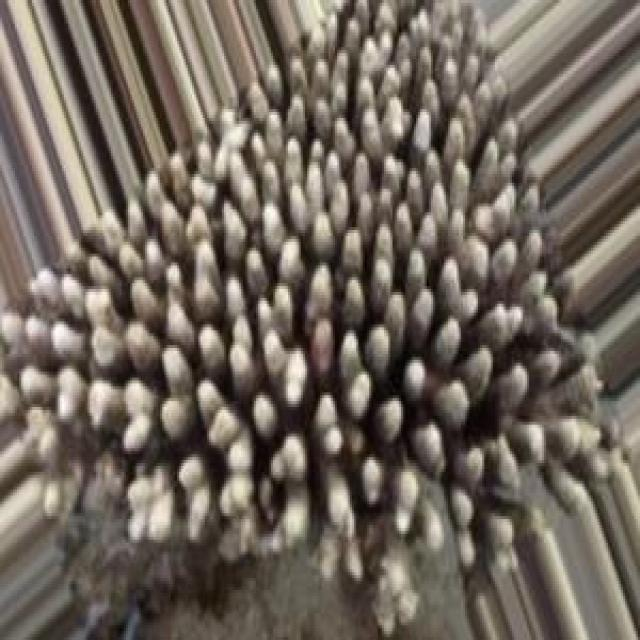Bleached: (1, 1, 598, 570)
